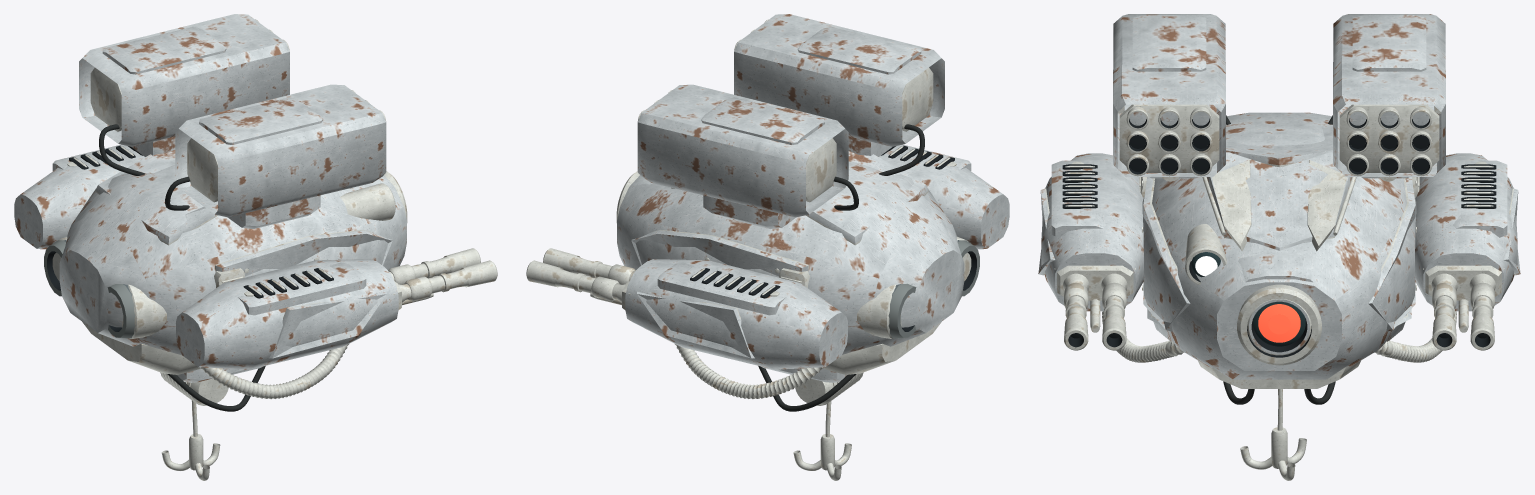
Rendered from citadel-enforcer.glb.
The picture shows the model from 3 angles, left to right: view 1: azimuth 30°, elevation 25°; view 2: azimuth 150°, elevation 25°; view 3: azimuth 270°, elevation 25°; orthographic projection. The views are drawn at different scales.
Visible parts, largest first — view 1: Armoured citadel hull, Starboard rocket cassette, Starboard cannon, Port rocket cassette, Winch, towing claw and service lines, Port cannon, Starboard armour and radiators, Combat optic and searchlight, Port armour and radiators; view 2: Armoured citadel hull, Port rocket cassette, Port cannon, Starboard rocket cassette, Winch, towing claw and service lines, Starboard cannon, Port armour and radiators, Starboard armour and radiators; view 3: Armoured citadel hull, Port rocket cassette, Starboard rocket cassette, Port cannon, Starboard cannon, Combat optic and searchlight, Winch, towing claw and service lines, Starboard armour and radiators, Port armour and radiators.
Boxes of the visible parts, bbox=[...] form: Armoured citadel hull: bbox=[59, 150, 406, 374]; Starboard rocket cassette: bbox=[175, 84, 386, 228]; Starboard cannon: bbox=[176, 248, 497, 369]; Port rocket cassette: bbox=[79, 14, 289, 156]; Winch, towing claw and service lines: bbox=[99, 124, 348, 480]; Port cannon: bbox=[14, 144, 144, 249]; Starboard armour and radiators: bbox=[107, 229, 392, 338]; Combat optic and searchlight: bbox=[340, 171, 407, 222]; Port armour and radiators: bbox=[44, 236, 67, 296]; Armoured citadel hull: bbox=[617, 151, 964, 374]; Port rocket cassette: bbox=[637, 84, 848, 228]; Port cannon: bbox=[526, 248, 847, 369]; Starboard rocket cassette: bbox=[734, 14, 944, 156]; Winch, towing claw and service lines: bbox=[675, 124, 924, 480]; Starboard cannon: bbox=[879, 144, 1009, 249]; Port armour and radiators: bbox=[631, 229, 916, 338]; Starboard armour and radiators: bbox=[956, 236, 979, 296]; Armoured citadel hull: bbox=[1142, 112, 1416, 388]; Port rocket cassette: bbox=[1333, 14, 1445, 181]; Starboard rocket cassette: bbox=[1113, 14, 1225, 181]; Port cannon: bbox=[1415, 153, 1520, 350]; Starboard cannon: bbox=[1038, 153, 1143, 350]; Combat optic and searchlight: bbox=[1185, 224, 1321, 365]; Winch, towing claw and service lines: bbox=[1102, 115, 1456, 480]; Starboard armour and radiators: bbox=[1139, 177, 1190, 331]; Port armour and radiators: bbox=[1368, 177, 1419, 331].
Size of the model in its own units: 5.9 by 6.8 by 6.76.
Materials: 14 (6 with a texture image).
